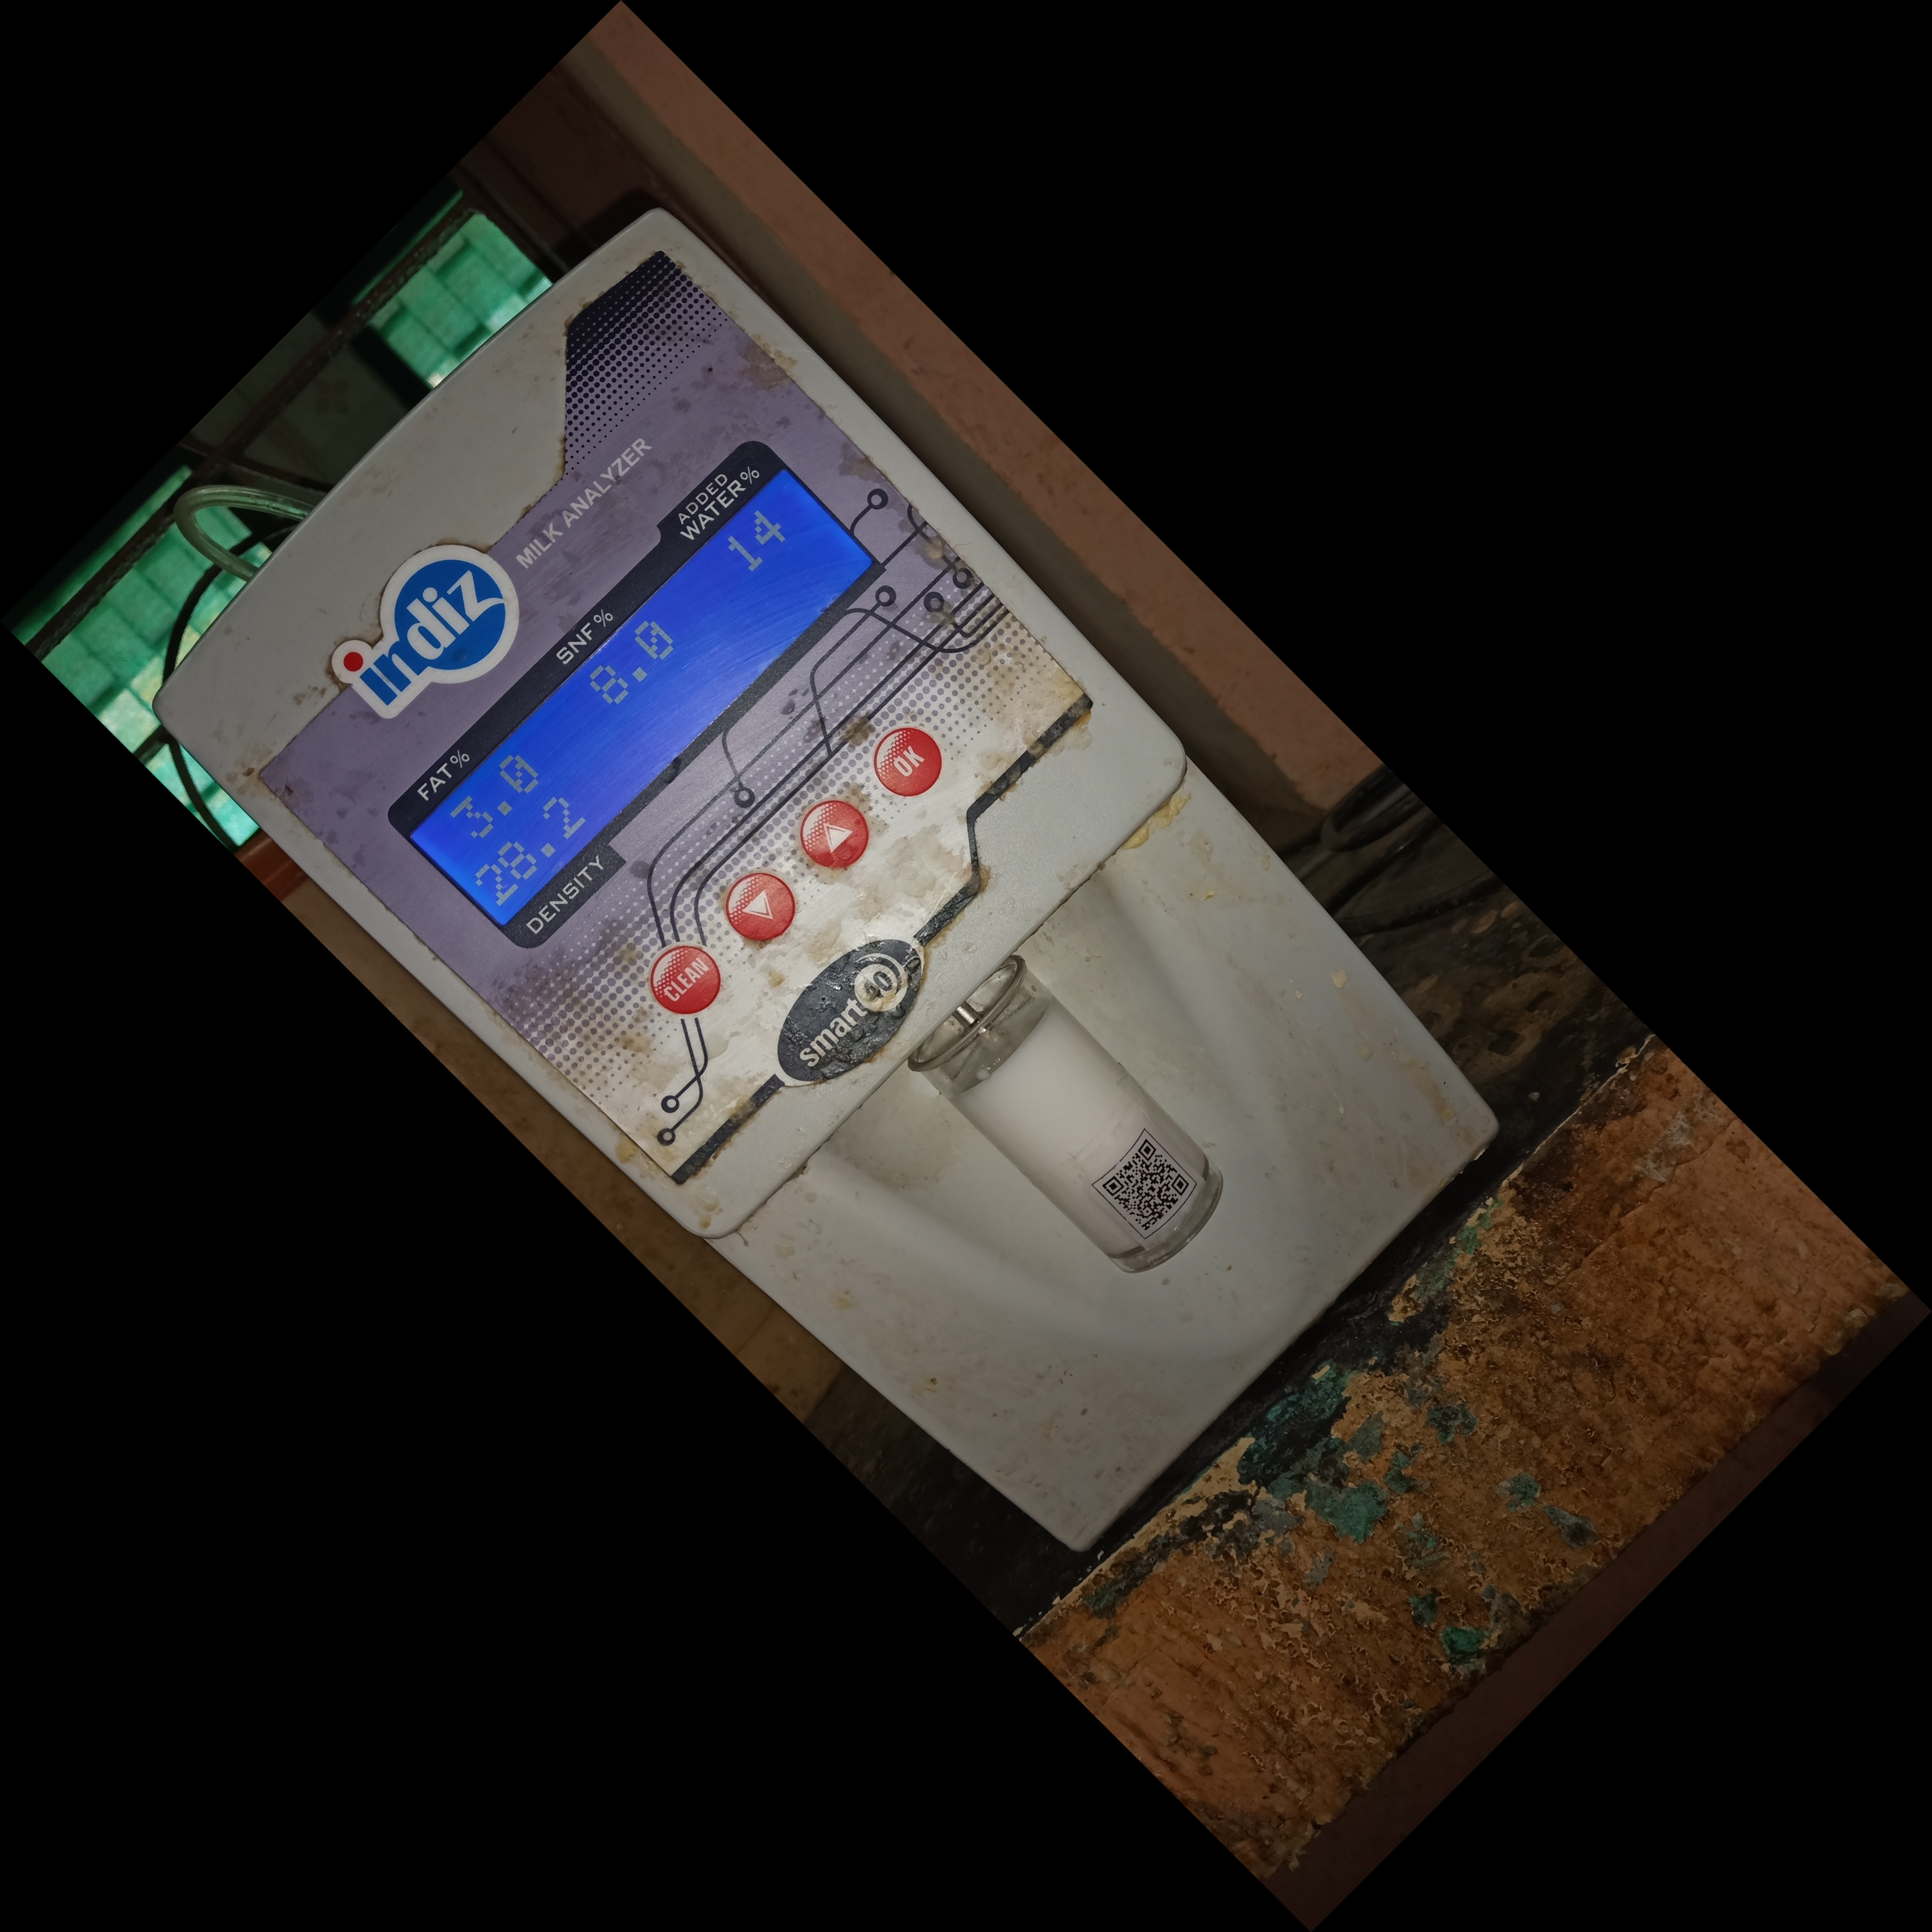lcd: (366, 446, 908, 984)
qr: (1086, 1116, 1212, 1267)
